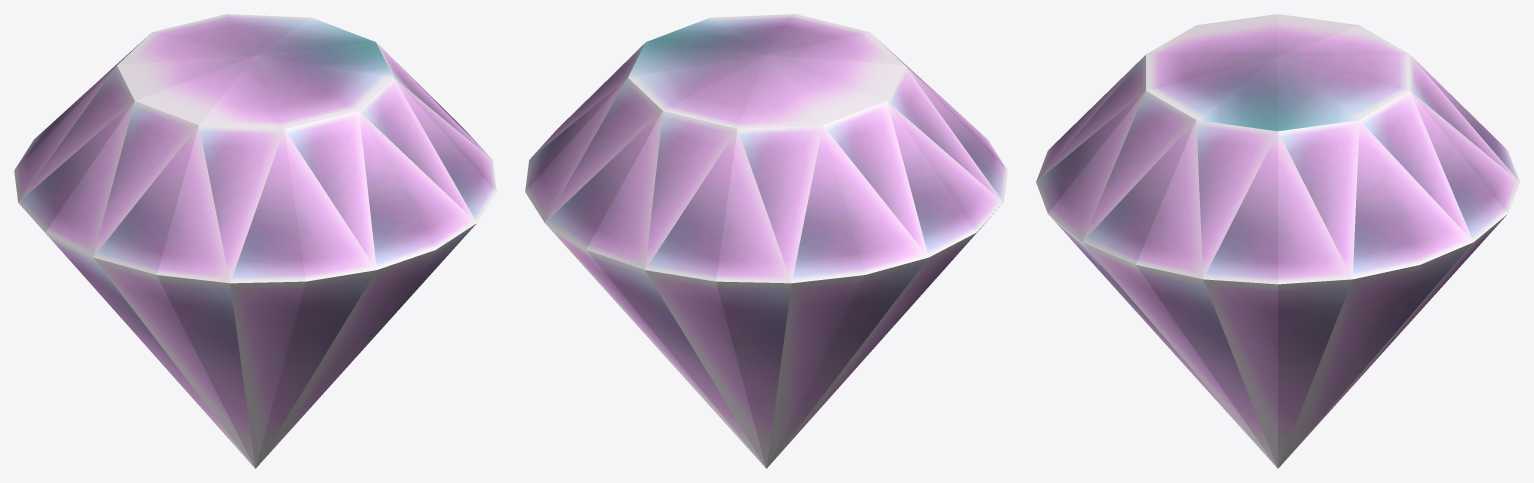
The model's file is diamond.fbx.
3 renders of one model, left to right at view 1: azimuth 30°, elevation 25°; view 2: azimuth 150°, elevation 25°; view 3: azimuth 270°, elevation 25°, orthographic.
Parts seen in each view (by area): view 1: diamond; view 2: diamond; view 3: diamond.
Boxes of the visible parts, left/top/right/bottom form: diamond: left=14, top=14, right=496, bottom=468; diamond: left=525, top=14, right=1007, bottom=468; diamond: left=1036, top=14, right=1519, bottom=468.
Bounding box in the file's own units: 7.21 × 6.78 × 7.21.
